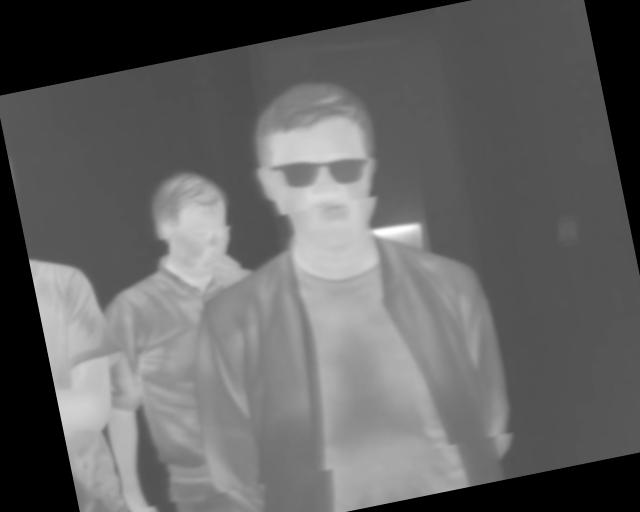face: (240, 70, 391, 252), (141, 163, 242, 286)
